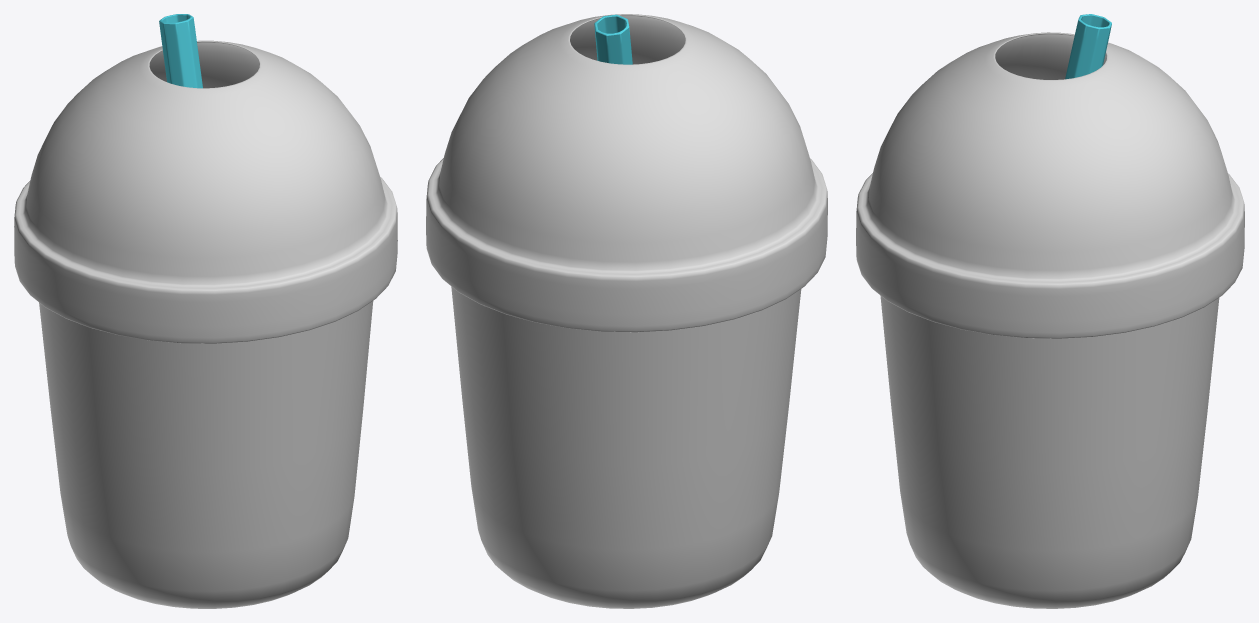
Rendered from Boba tea.fbx.
3 renders of one model, left to right at view 1: azimuth 30°, elevation 25°; view 2: azimuth 150°, elevation 25°; view 3: azimuth 270°, elevation 25°, orthographic. The views are drawn at different scales.
Parts seen in each view (by area): view 1: Tapa, Vaso, Pajita; view 2: Tapa, Vaso, Pajita; view 3: Tapa, Vaso, Pajita.
Part boxes in pixels (left/top/right/bottom): Tapa: left=14, top=40, right=397, bottom=343; Vaso: left=39, top=301, right=373, bottom=608; Pajita: left=159, top=14, right=202, bottom=88; Tapa: left=426, top=14, right=827, bottom=332; Vaso: left=451, top=286, right=801, bottom=608; Pajita: left=594, top=14, right=632, bottom=64; Tapa: left=856, top=32, right=1244, bottom=338; Vaso: left=880, top=295, right=1219, bottom=608; Pajita: left=1065, top=14, right=1111, bottom=79.
Size of the model in its own units: 75.74 by 117 by 75.73.
